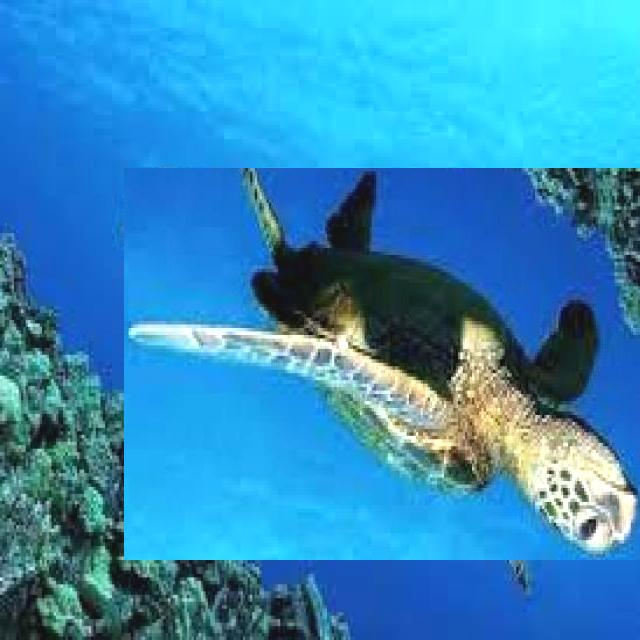Sea turtle: (124, 168, 640, 560)
